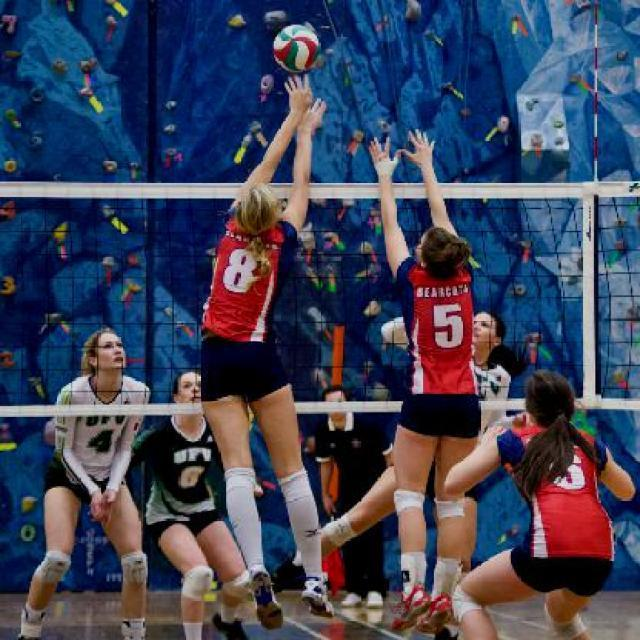volleyball: (273, 22, 321, 74)
